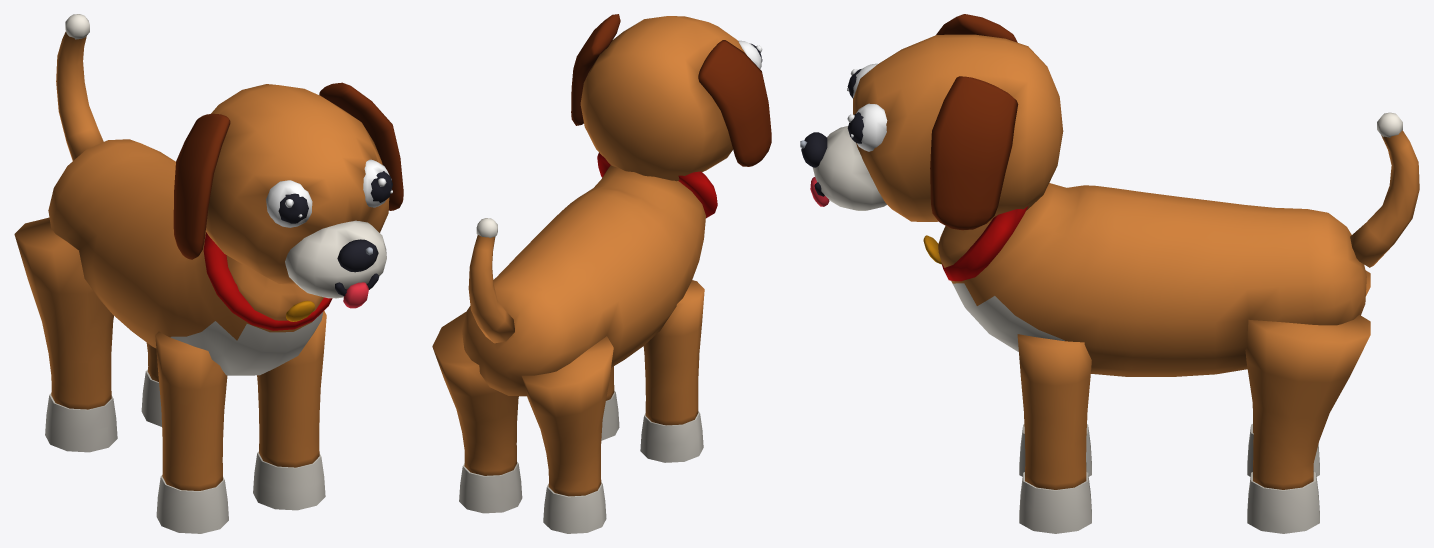
The model's file is Dog.fbx.
3 views of the same model, side by side, from view 1: azimuth 30°, elevation 25°; view 2: azimuth 150°, elevation 25°; view 3: azimuth 270°, elevation 25° (orthographic). The views are drawn at different scales.
Parts seen in each view (by area): view 1: Dog, Head, Tail; view 2: Dog, Head, Tail; view 3: Dog, Head, Tail.
Boxes of the visible parts, x1,y1,x2,y2 form: Dog: (14,139,332,533); Head: (173,82,403,308); Tail: (56,14,103,160); Dog: (432,152,717,533); Head: (571,14,771,181); Tail: (468,218,514,343); Dog: (923,183,1370,533); Head: (800,14,1063,230); Tail: (1350,112,1419,267).
Bounding box in the file's own units: 0.3313 × 0.6528 × 0.8154.
